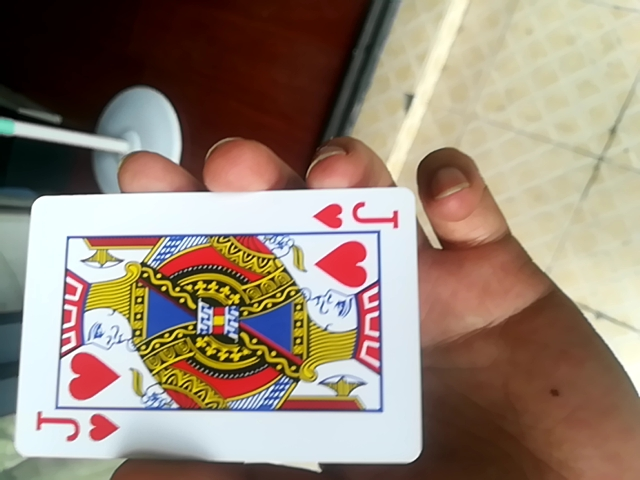hx j: (11, 185, 424, 465)
